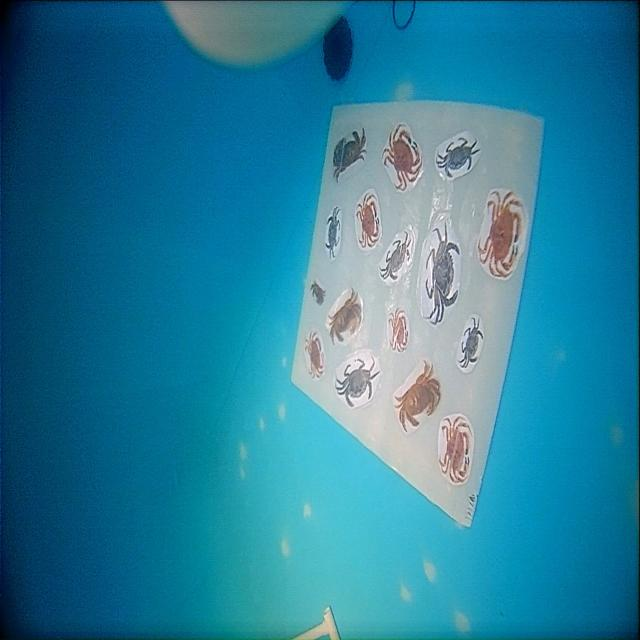GreenCrab: (425, 227, 459, 324), (335, 359, 380, 408), (436, 137, 480, 178), (459, 318, 483, 368)
